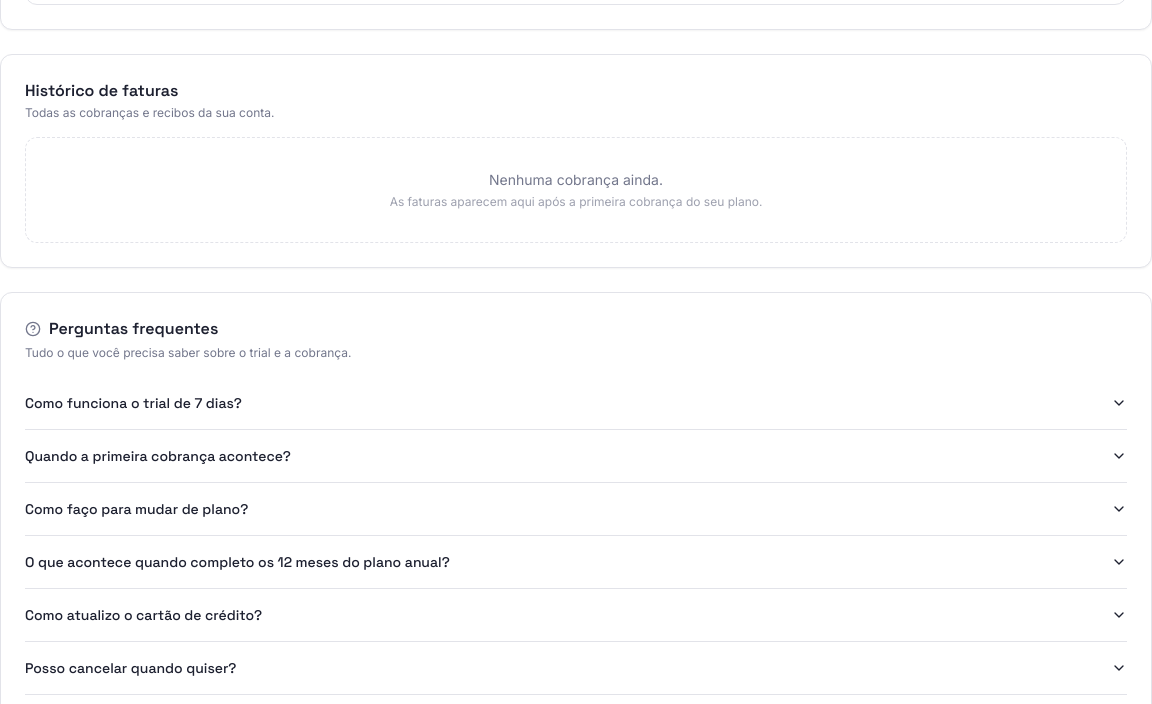
Test: P57 — aviso de renovação do compromisso anual › FAQ de renovação existe com o texto aprovado
(page scrolled)
What coordinates should you click on to do the following:
click the button "O que acontece quando completo os 12 meses do plano anual?"
I would click on:
 (237, 562)
Its box is [25,536,1127,588].
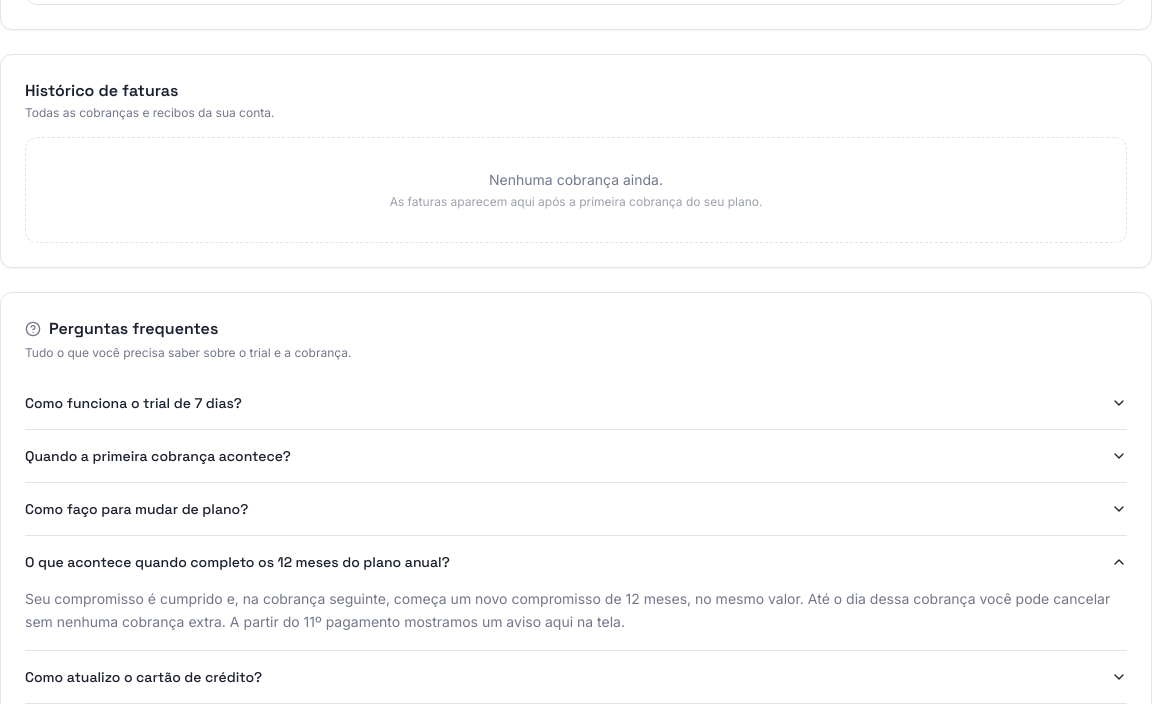
Now the text "Até o dia dessa cobrança você pode cancelar sem nenhuma cobrança extra" is shown, box [25,590,1110,630]
